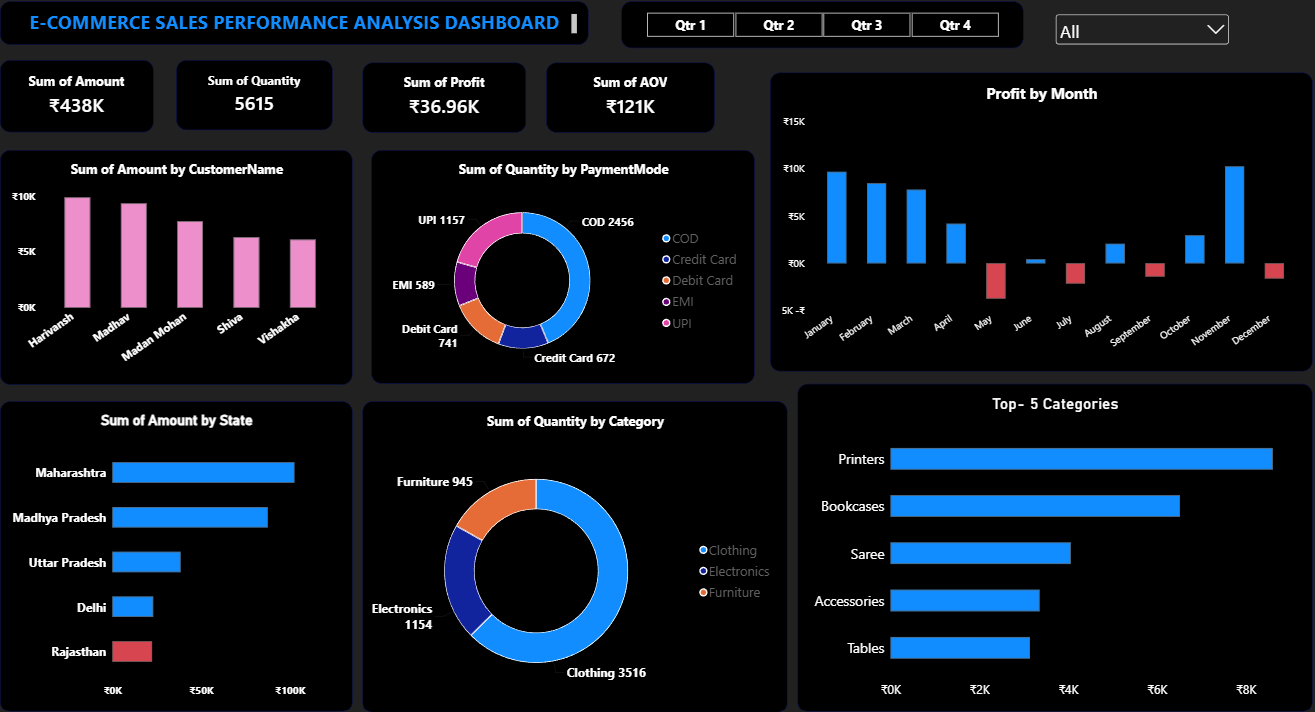

The page's visual inventory and layout, read from the dashboard file:
{"tool":"powerbi","page":{"name":"Page 1","canvas":[1920,1080],"ordinal":0},"visuals":[{"type":"textbox","box":[14.5,16.3,852.4,63.3],"z":0},{"type":"clusteredColumnChart","fields":{"Category":["Orders.Order Date.Variation.Date Hierarchy.Month"],"Y":["Sum(Details.Profit)"]},"box":[1129.2,119.4,785.4,432.5],"z":1000},{"type":"clusteredBarChart","title":"Top- 5 Categories","fields":{"Category":["Details.Sub-Category"],"Y":["Sum(Details.Profit)"]},"box":[1169,570,745.6,475.9],"z":2000},{"type":"donutChart","fields":{"Category":["Details.Category"],"Y":["Sum(Details.Quantity)"]},"box":[539.3,595.4,615.3,452],"z":3000},{"type":"cardVisual","fields":{"Data":["Sum(Details.Amount)"]},"box":[14.5,101.3,222.6,105],"z":4000},{"type":"cardVisual","fields":{"Data":["Sum(Details.Quantity)"]},"box":[269.6,101.3,226.2,101.3],"z":5000},{"type":"donutChart","fields":{"Series":["Details.PaymentMode"],"Y":["Sum(Details.Quantity)"]},"box":[551.9,231.6,555.6,338.4],"z":5001},{"type":"cardVisual","fields":{"Data":["Sum(Details.Profit)"]},"box":[539.3,105,237.1,101.3],"z":5002},{"type":"cardVisual","fields":{"Data":["Sum(Details.AOV)"]},"box":[805.3,105,244.3,101.3],"z":5003},{"type":"clusteredBarChart","title":"Sum of Amount by State","fields":{"Category":["Orders.State"],"Y":["Sum(Details.Amount)"]},"box":[14.5,595.4,510.3,450.6],"z":5004},{"type":"slicer","fields":{"Values":["Orders.Order Date.Variation.Date Hierarchy.Quarter"]},"box":[913.9,16.3,582,68],"z":5005},{"type":"columnChart","fields":{"Category":["Orders.CustomerName"],"Y":["Sum(Details.Amount)"]},"box":[14.5,231.6,510.3,340.2],"z":5006},{"type":"slicer","fields":{"Values":["Orders.State"]},"box":[1538,30,260,70],"z":5007}]}

Visuals, with their boxes on the page's 1920x1080 design canvas (x1, y1, x2, y2). These are canvas units, not pixel positions in the 1315x712 screenshot, which may show the page scaled, cropped or inside an application window:
textbox: bbox=[14, 16, 867, 80]
clusteredColumnChart - Orders.Order Date.Variation.Date Hierarchy.Month x Sum(Details.Profit): bbox=[1129, 119, 1915, 552]
"Top- 5 Categories" clusteredBarChart: bbox=[1169, 570, 1915, 1046]
donutChart - Details.Category x Sum(Details.Quantity): bbox=[539, 595, 1155, 1047]
cardVisual - Sum(Details.Amount): bbox=[14, 101, 237, 206]
cardVisual - Sum(Details.Quantity): bbox=[270, 101, 496, 203]
donutChart - Details.PaymentMode x Sum(Details.Quantity): bbox=[552, 232, 1108, 570]
cardVisual - Sum(Details.Profit): bbox=[539, 105, 776, 206]
cardVisual - Sum(Details.AOV): bbox=[805, 105, 1050, 206]
"Sum of Amount by State" clusteredBarChart: bbox=[14, 595, 525, 1046]
slicer - Orders.Order Date.Variation.Date Hierarchy.Quarter: bbox=[914, 16, 1496, 84]
columnChart - Orders.CustomerName x Sum(Details.Amount): bbox=[14, 232, 525, 572]
slicer - Orders.State: bbox=[1538, 30, 1798, 100]
